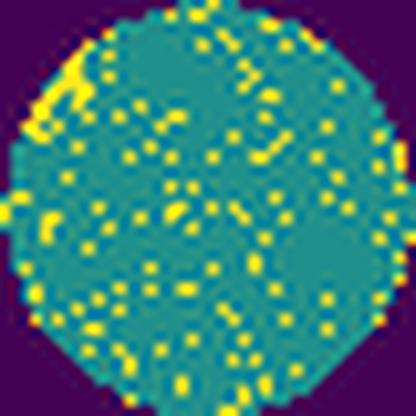Edge-Loc: (15, 34, 104, 146)
